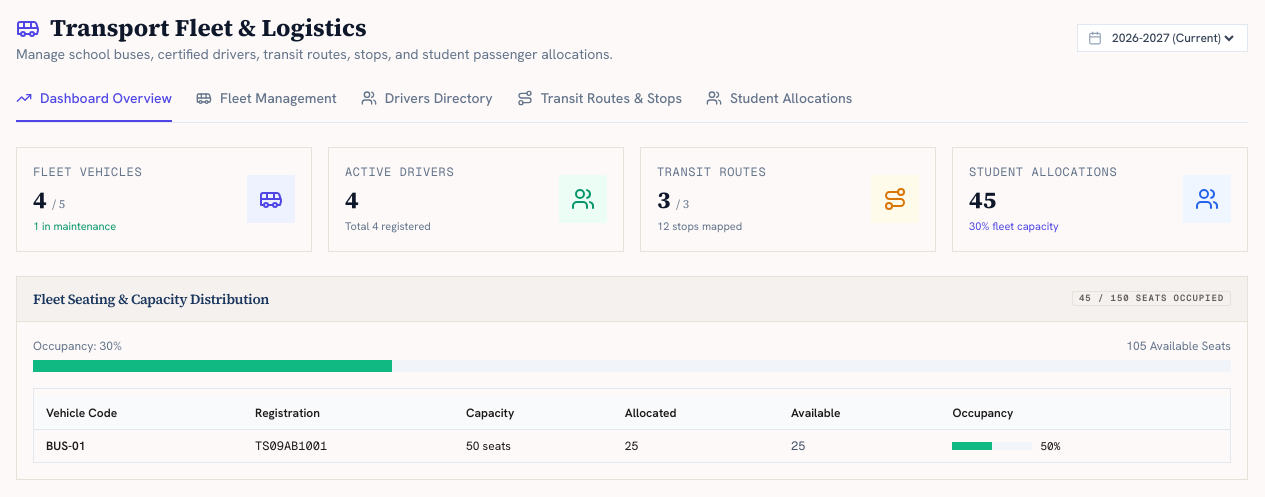
Scenario: TransportPage Component › 2. Switches to Fleet Management tab and renders vehicle list
Click the button "Fleet Management" at (266, 105), box [196,88,337,122]
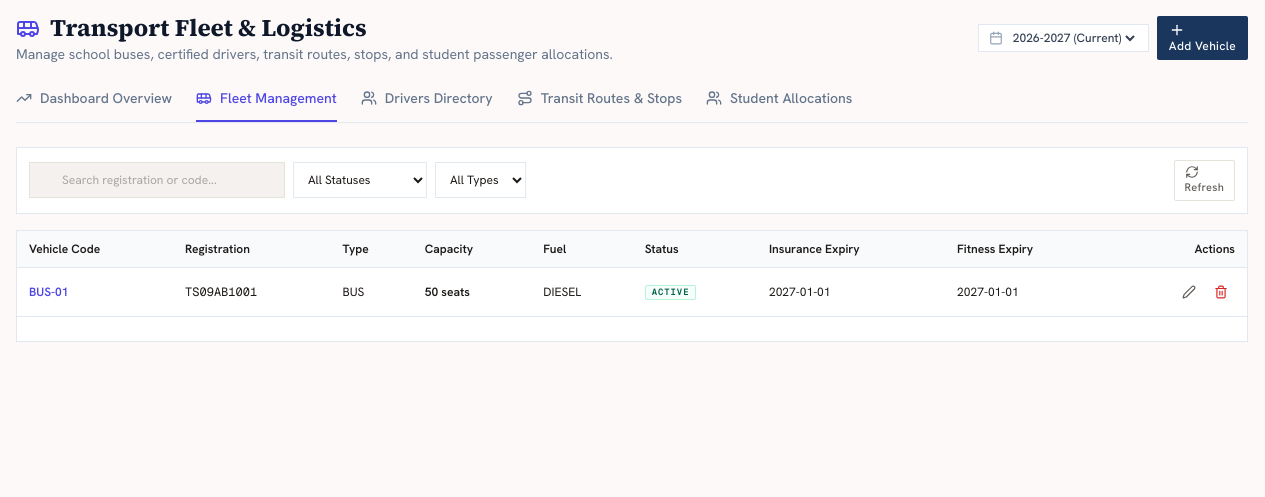
Expected: the text "BUS-01" is shown, [17,267,173,316]
Result: the text "Add Vehicle" is shown at [1169,22,1236,54]
